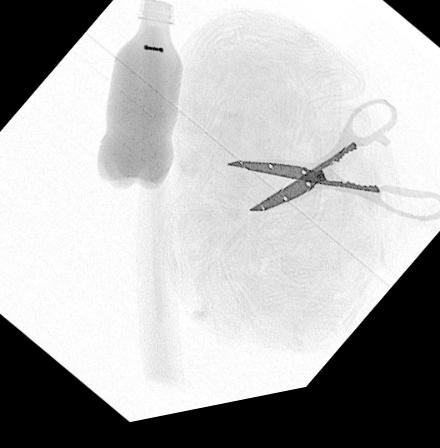Scissors: (222, 112, 440, 240)
